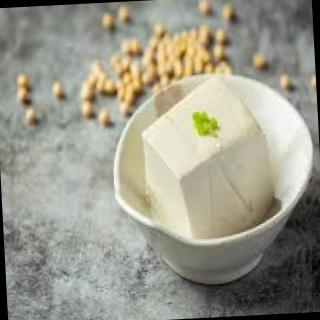Tahu: (125, 69, 295, 246)
